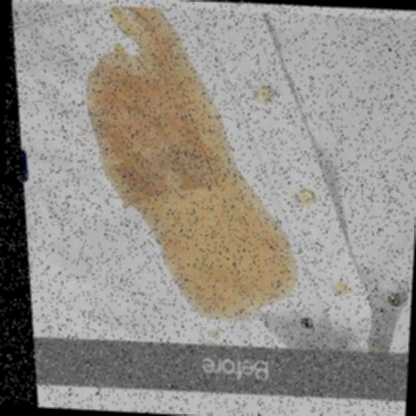coffee: (163, 197, 285, 308), (104, 63, 195, 168)
